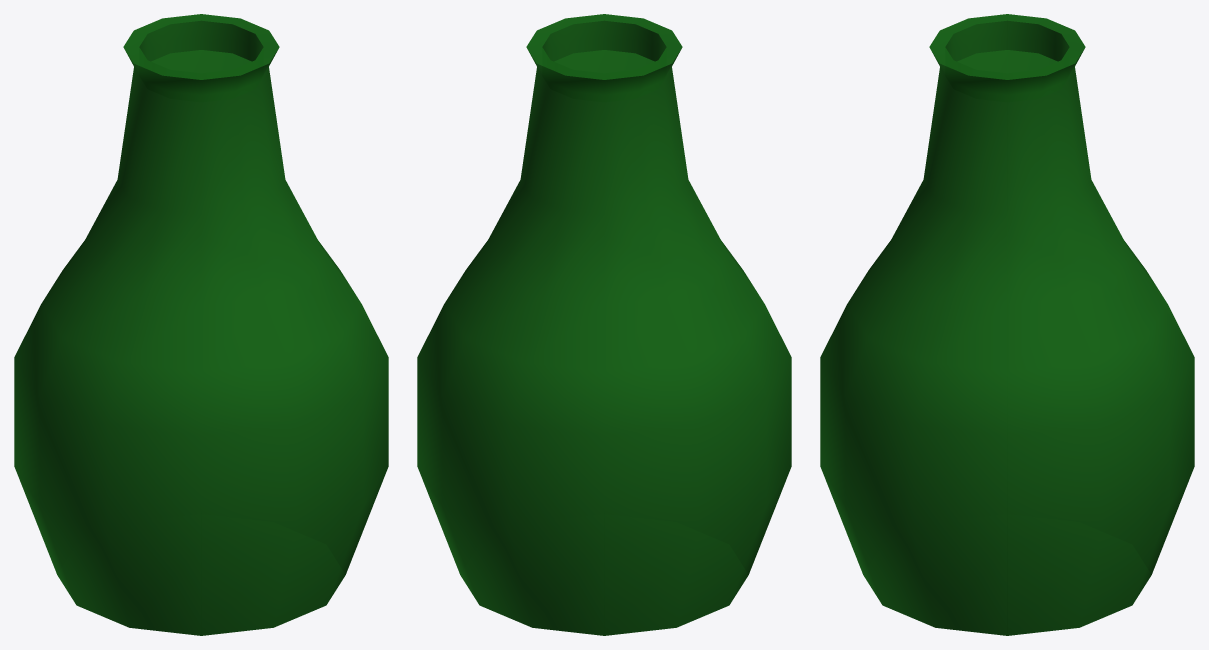
Rendered from vase3.fbx.
3 renders of one model, left to right at view 1: azimuth 30°, elevation 25°; view 2: azimuth 150°, elevation 25°; view 3: azimuth 270°, elevation 25°, orthographic.
Parts seen in each view (by area): view 1: pCylinder2; view 2: pCylinder2; view 3: pCylinder2.
Boxes of the visible parts, x1=… form: pCylinder2: x1=14, y1=14, x2=388, y2=635; pCylinder2: x1=417, y1=14, x2=791, y2=635; pCylinder2: x1=820, y1=14, x2=1194, y2=635.
Bounding box in the file's own units: 0.5885 × 0.9154 × 0.5885.
